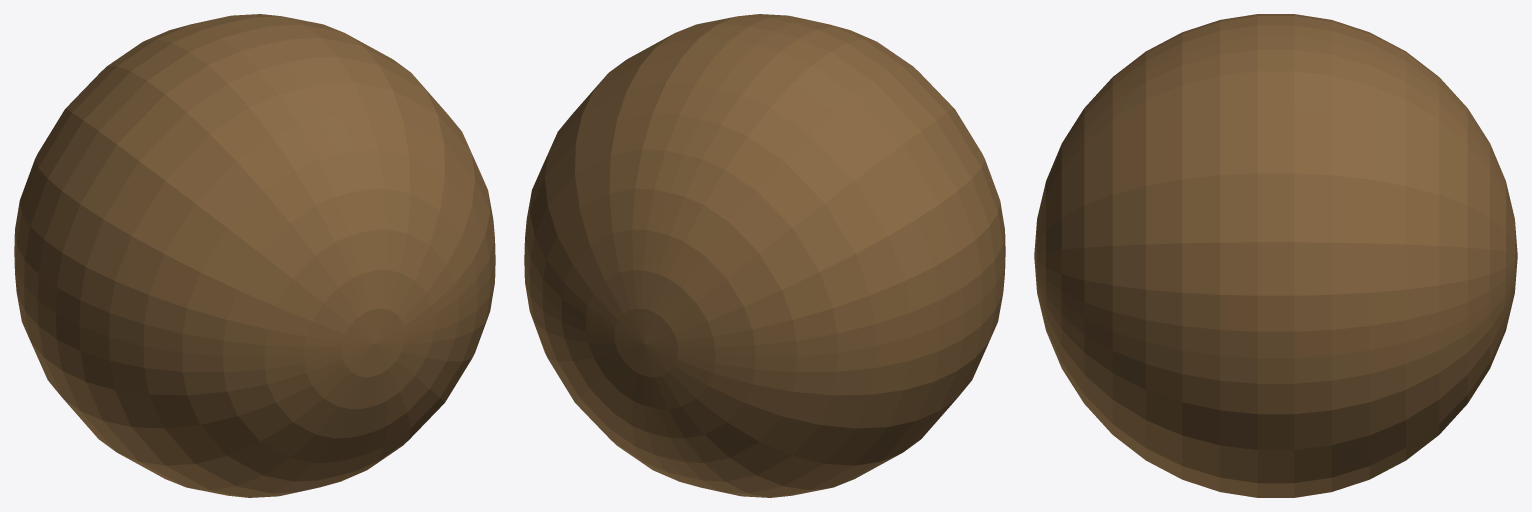
File: LeftFingerJoint40y_joint_visu.dae
The picture shows the model from 3 angles, left to right: view 1: azimuth 30°, elevation 25°; view 2: azimuth 150°, elevation 25°; view 3: azimuth 270°, elevation 25°; orthographic projection.
Visible parts, largest first — view 1: node; view 2: node; view 3: node.
Boxes of the visible parts, left/top/right/bottom form: node: left=14, top=14, right=495, bottom=497; node: left=524, top=14, right=1005, bottom=497; node: left=1034, top=14, right=1517, bottom=497.
Bounding box in the file's own units: 0.00808 × 0.00808 × 0.00808.
